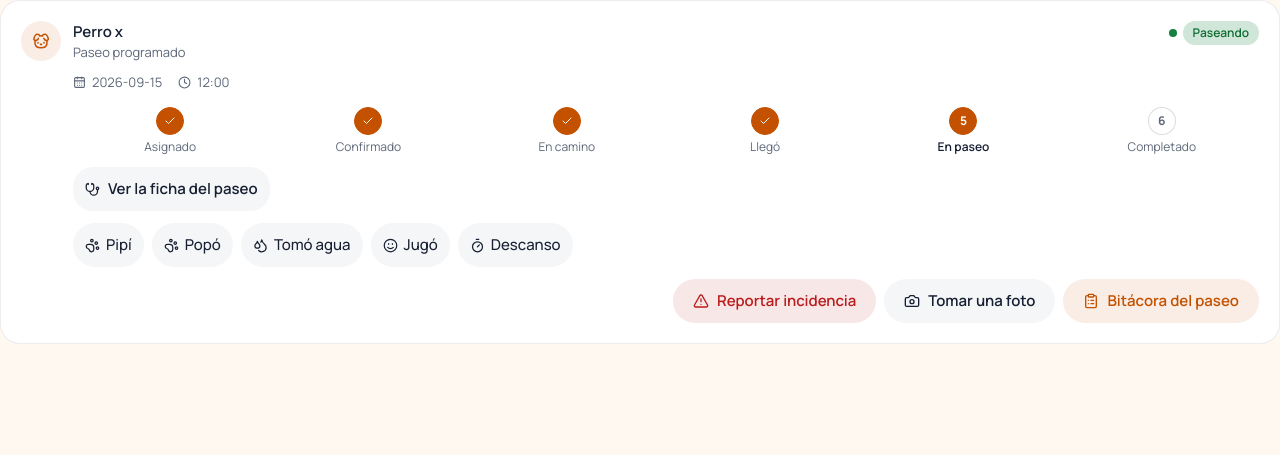
Test: la tarjeta del paseo › las ubicaciones registradas quedan dentro de la ficha, no a la vista
The image size is (1280, 455).
Expected: the text "ubicación registrada" is not shown
What coordinates should you click on to do the following:
click the button "Ver la ficha del paseo"
I would click on:
 (171, 189)
Its box is [73, 167, 270, 211].
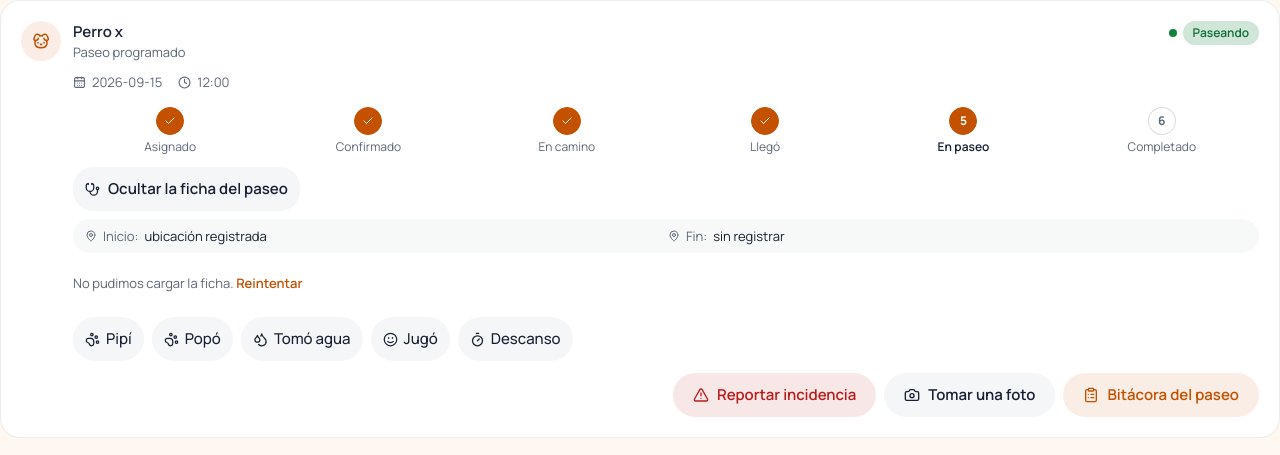
Expected: the text "ubicación registrada" is shown, [144, 227, 267, 245]
